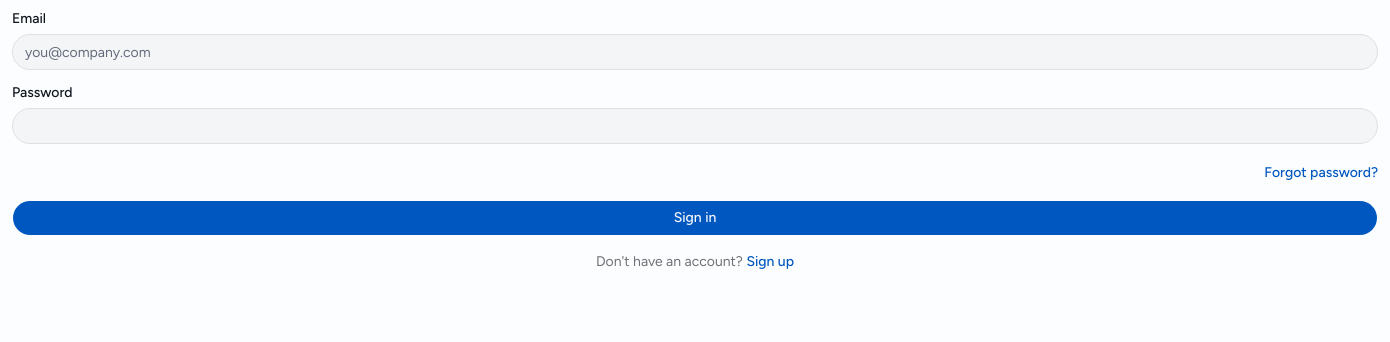
Scenario: SignInForm › blocks submit and shows validation errors for empty fields
Click the submit button: [695, 218] box [12,200,1378,236]
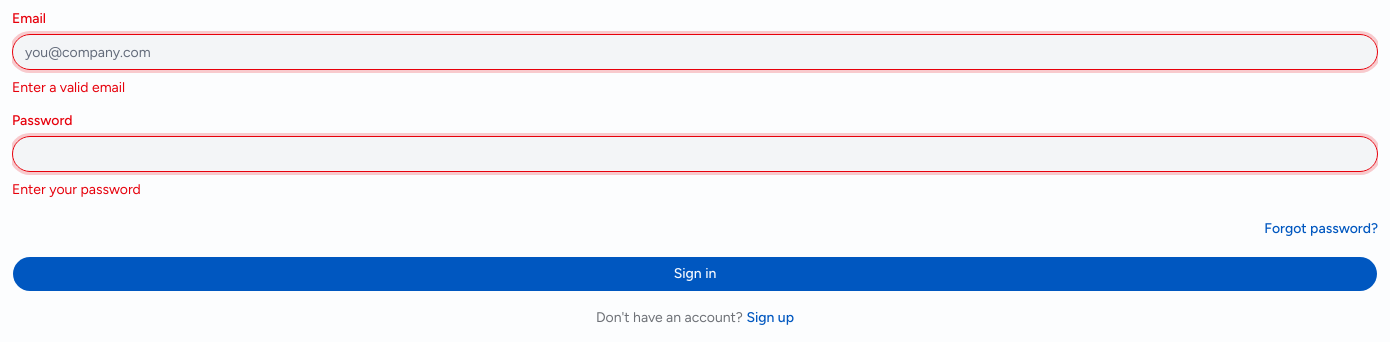
Now the text "Enter a valid email" is shown, box [12,79,125,96]
Now the text "Enter your password" is shown, box [12,181,141,198]
